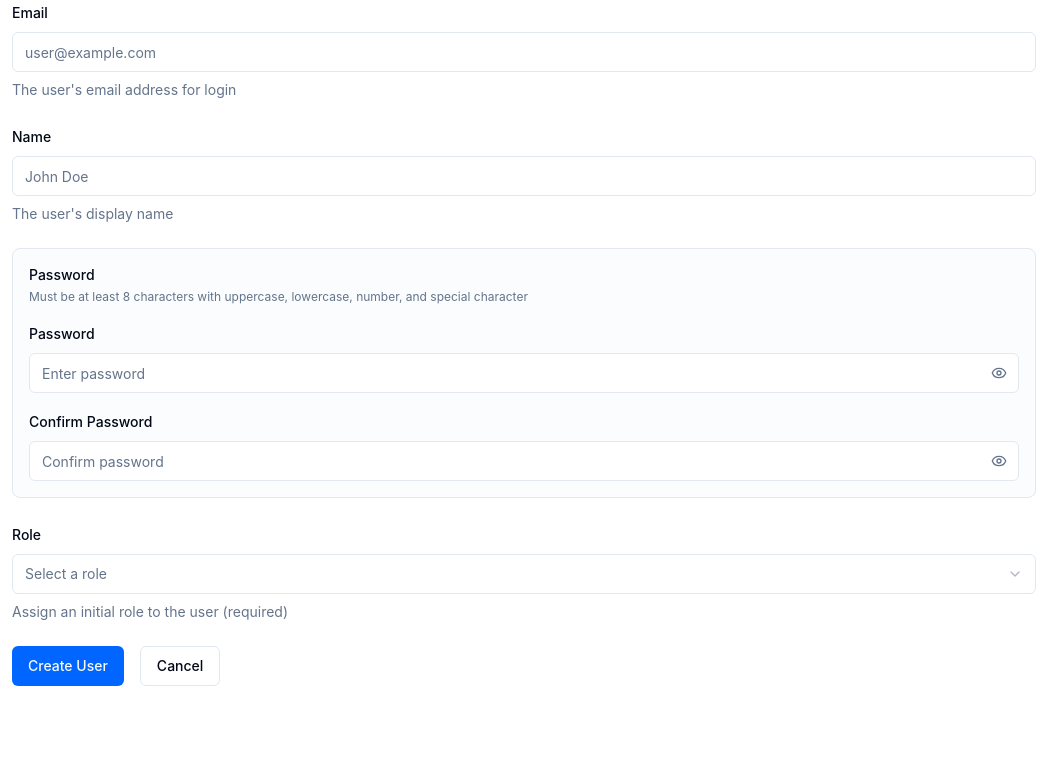
Test case: 2.8-COMPONENT: UserForm Component › [P0] 2.8-COMPONENT-009: should validate role is required
Fill in required fields but not role
Type "test@test.com" into the field with test id "user-email-input".
click(524, 52); type("test@test.com")  # box [12, 32, 1036, 72]
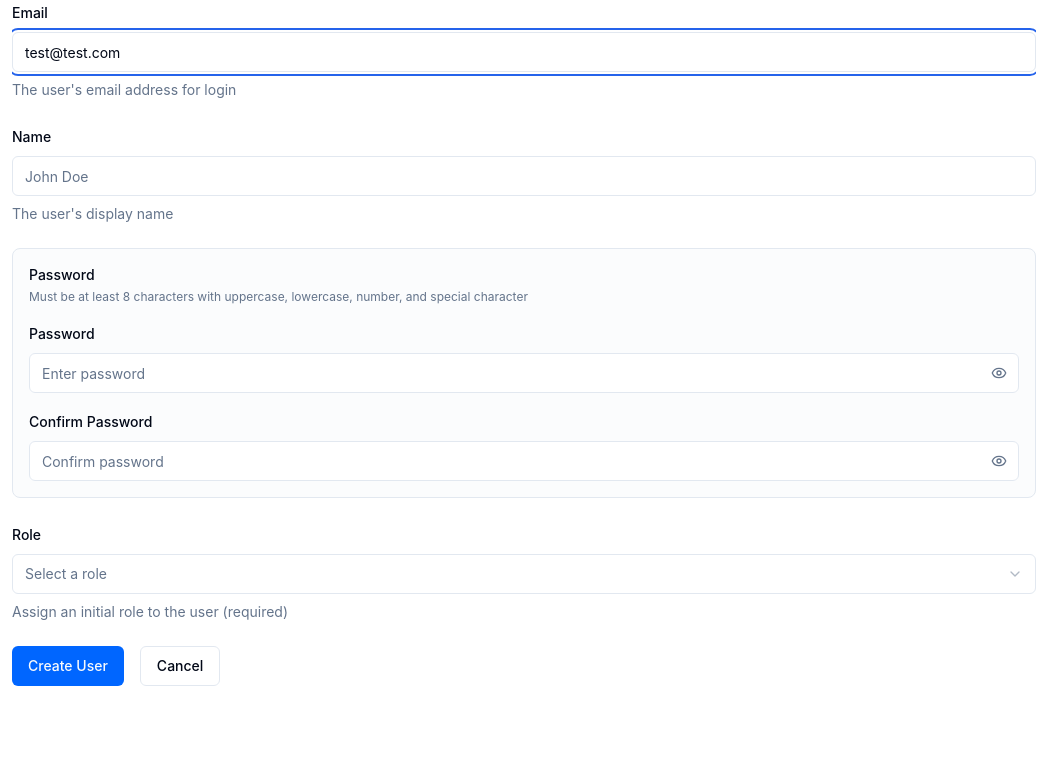
Type "Test User" into the field with test id "user-name-input".
click(524, 176); type("Test User")  # box [12, 156, 1036, 196]
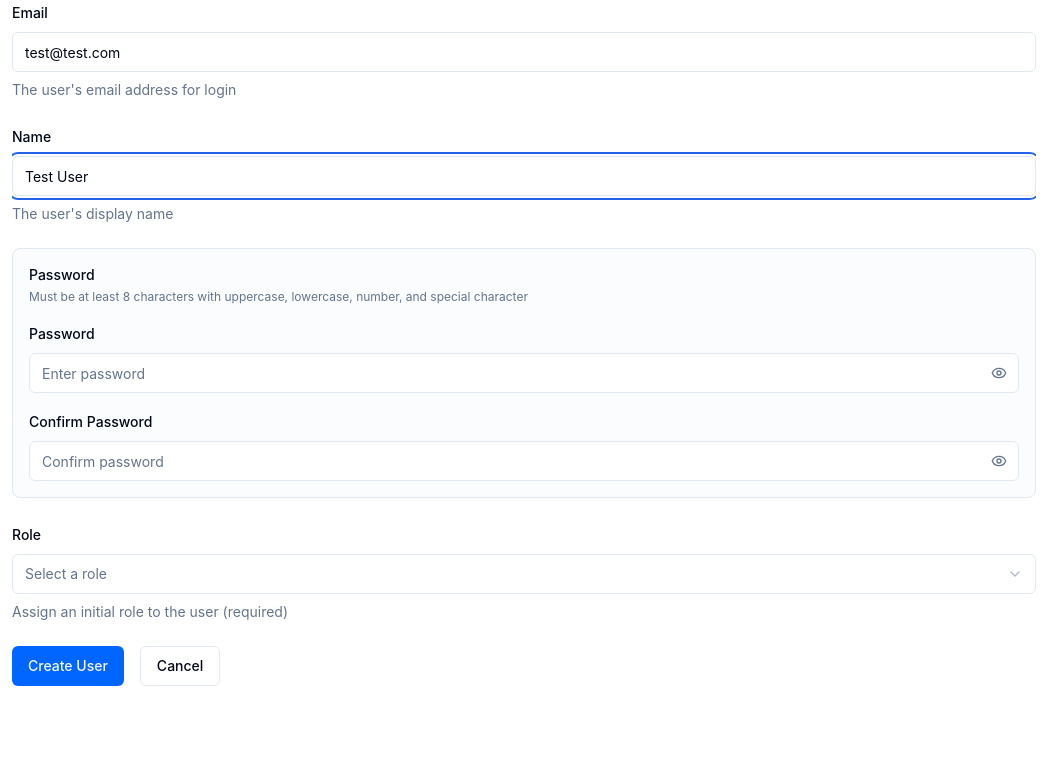
Type "StrongPassword123!" into the password field with test id "user-password-input".
click(524, 373); type("StrongPassword123!")  # box [29, 353, 1019, 393]
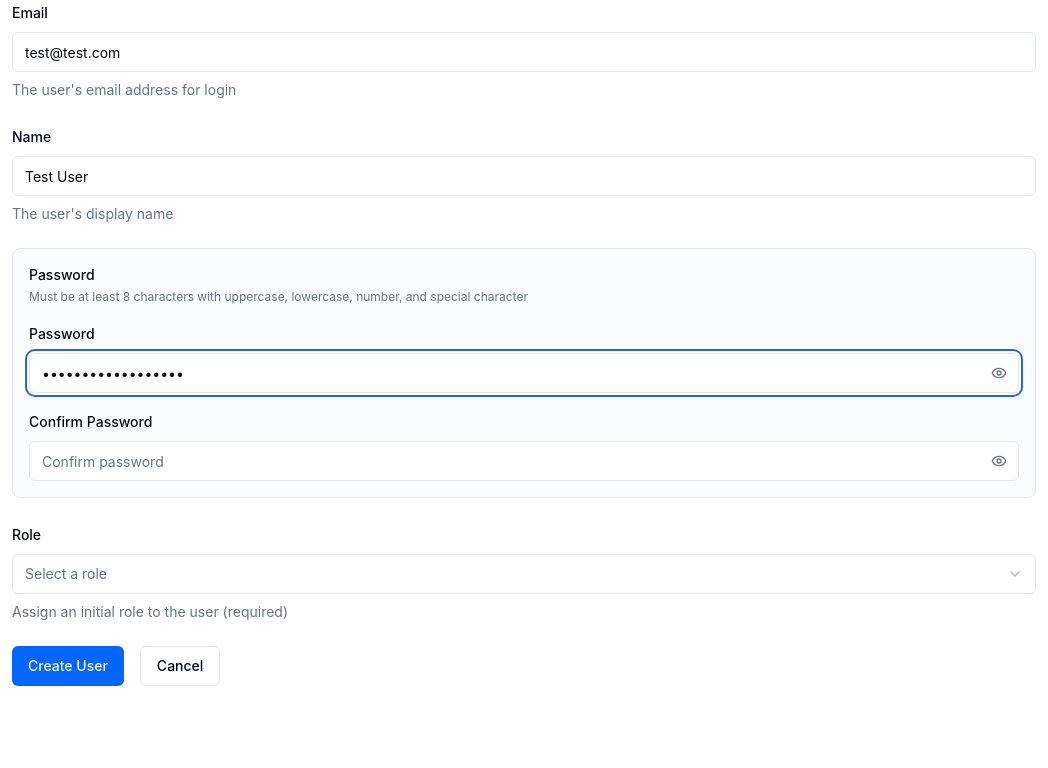
Form is submitted without role
Click the button with test id "user-form-submit".
click(68, 666)  # box [12, 646, 124, 686]
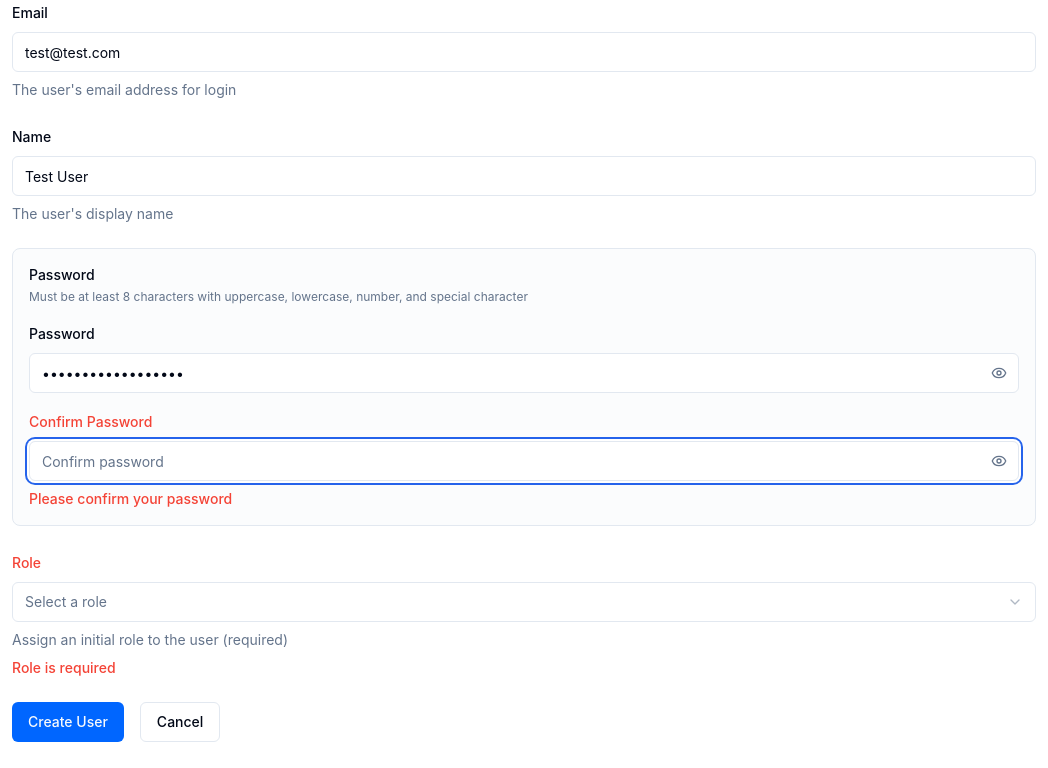
Now the text "Role is required" is shown, box [12, 659, 116, 676]
